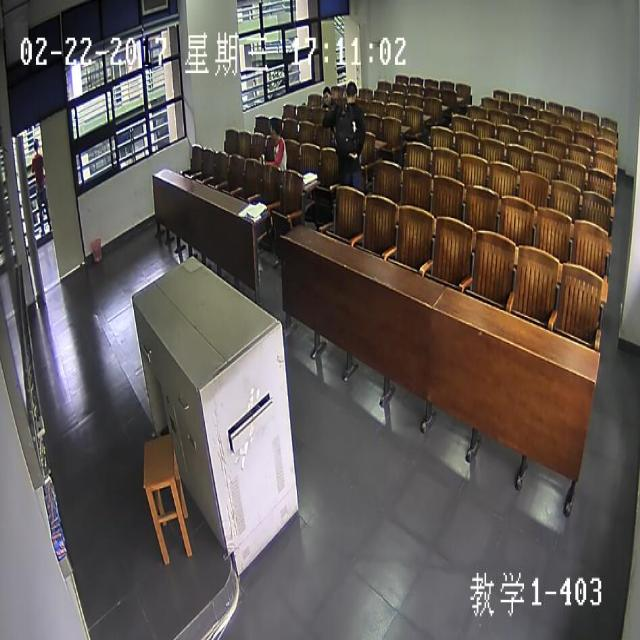person: (269, 114, 282, 143), (344, 80, 358, 102), (321, 86, 331, 107), (29, 138, 38, 152)
